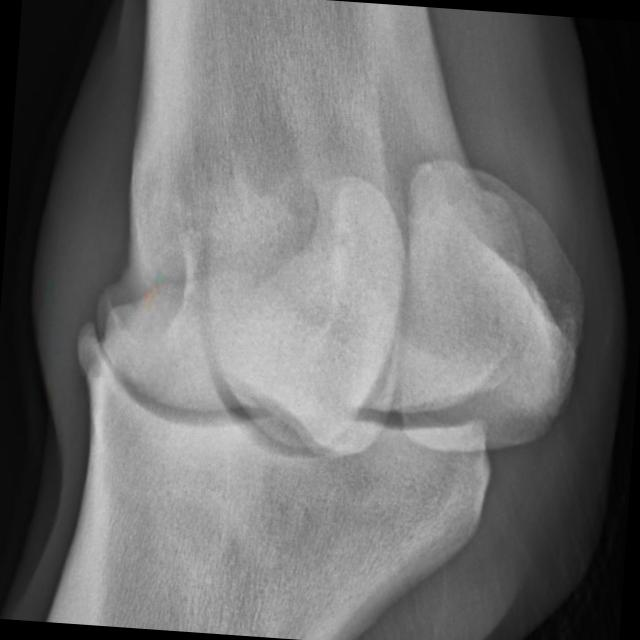bone remodeling: (19, 210, 246, 483)
